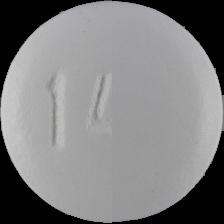61786-534: (0, 0, 224, 224)
